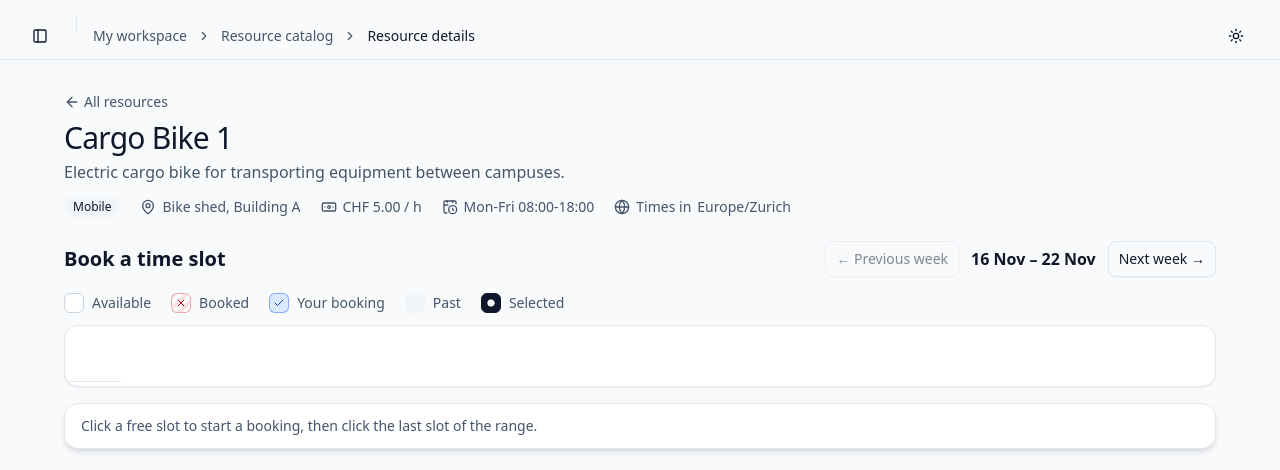
Test: ResourceDetailsPage › requests Monday to Sunday and navigates between weeks
expect the heading "Cargo Bike 1" is shown: met, box [64, 117, 232, 158]
expect the text "16 Nov – 22 Nov" is shown: met, box [971, 247, 1096, 271]
Click the button "Next week →" at (1162, 259), box [1108, 241, 1216, 277]
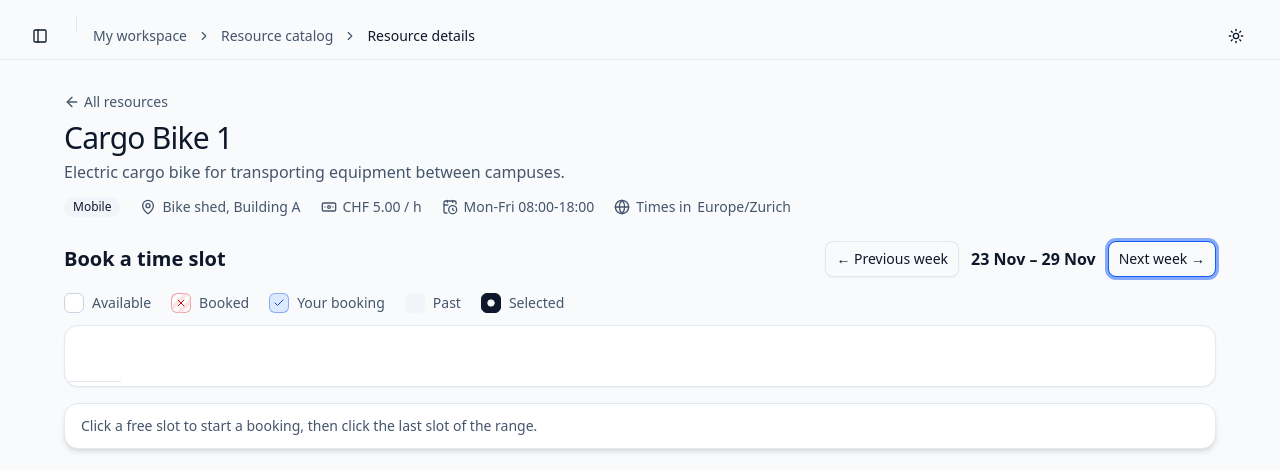
expect the button "← Previous week" is enabled: met
Click the button "← Previous week" at (892, 259), box [825, 241, 959, 277]
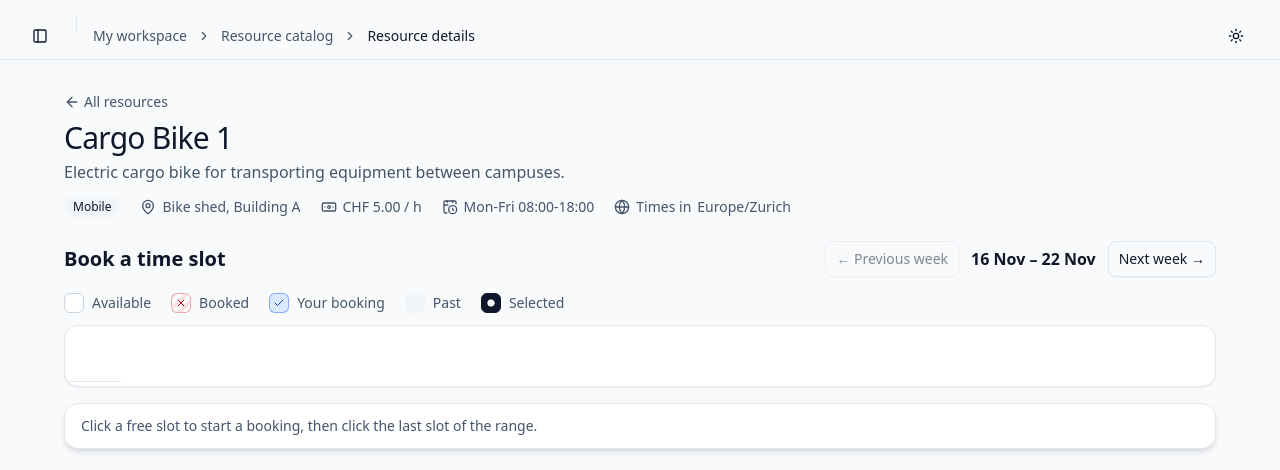
expect the button "← Previous week" is disabled: met, box [825, 241, 959, 277]
